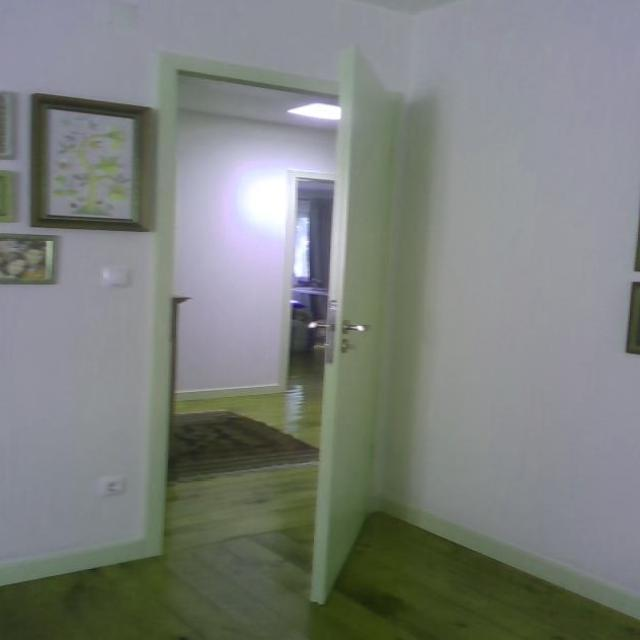door: (306, 30, 398, 601)
